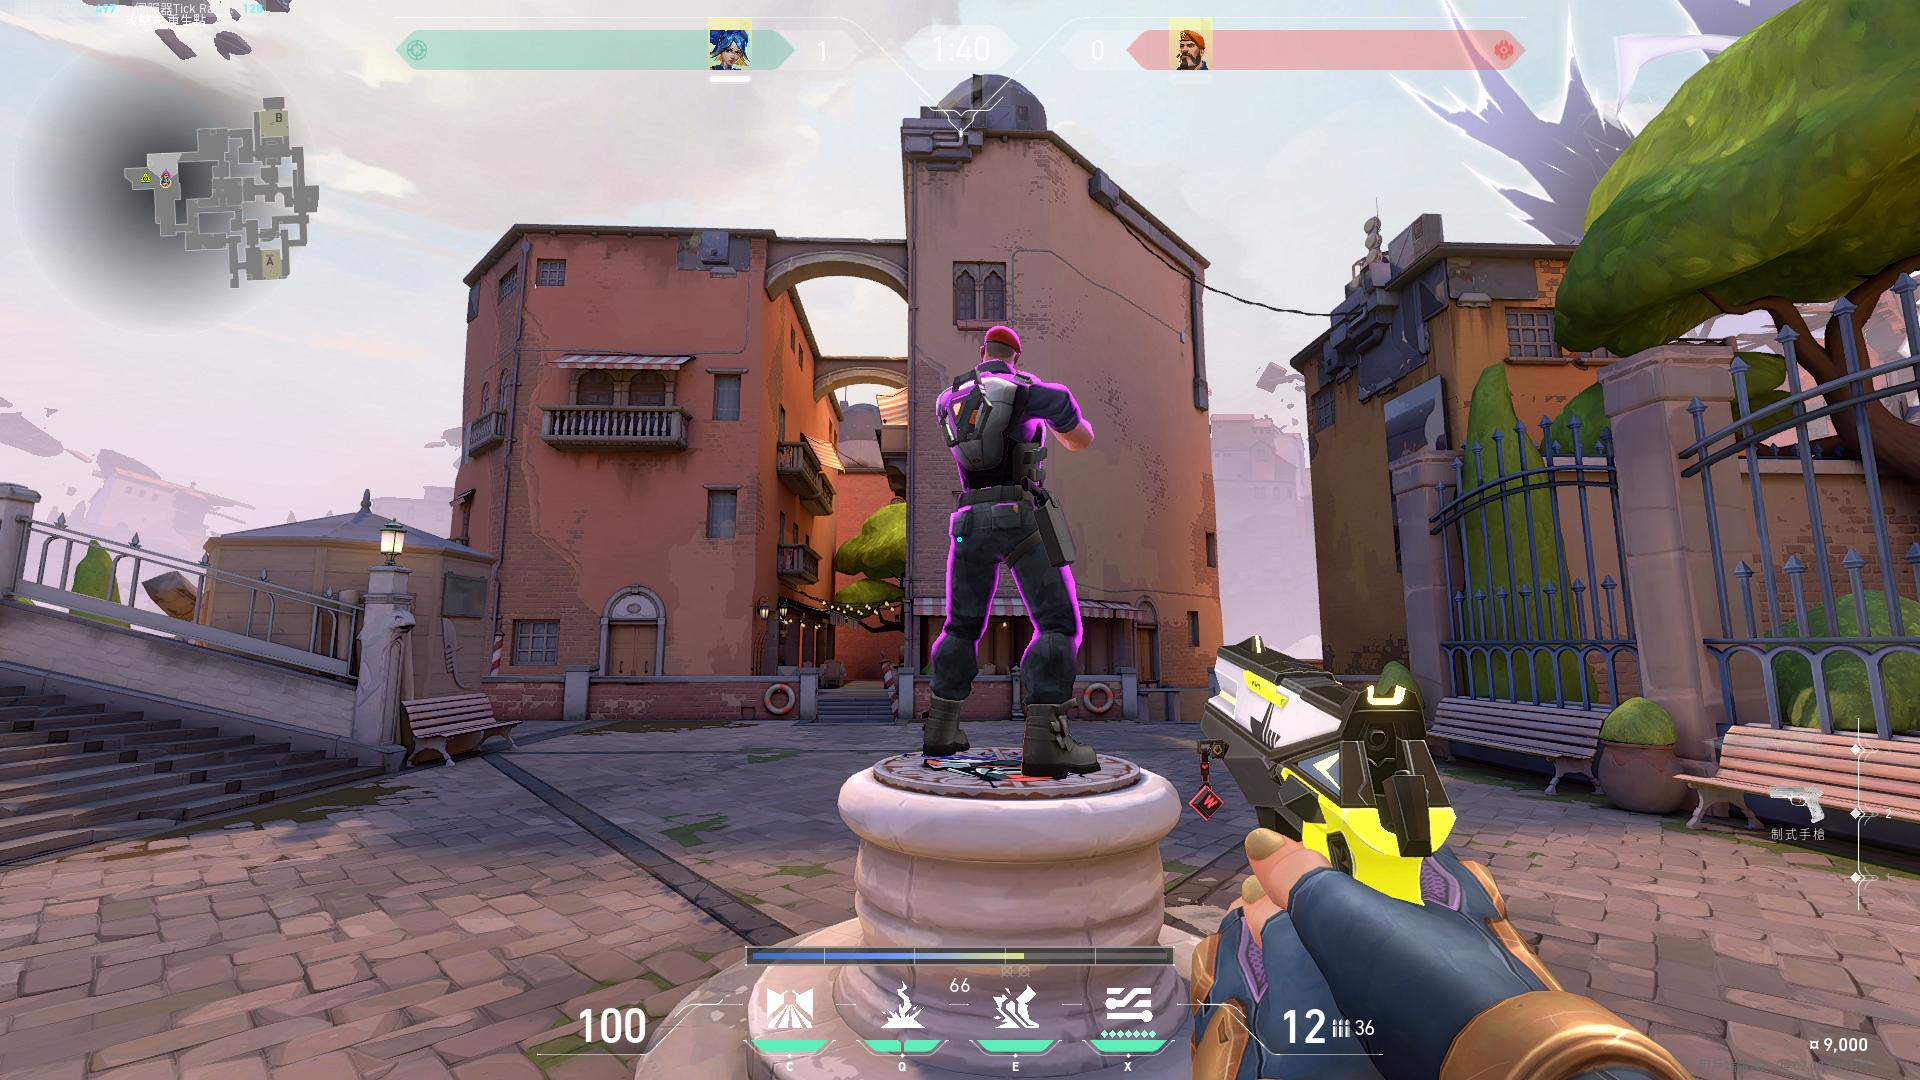enemyBody: (967, 389, 1048, 493)
enemyHead: (977, 339, 1021, 376)
